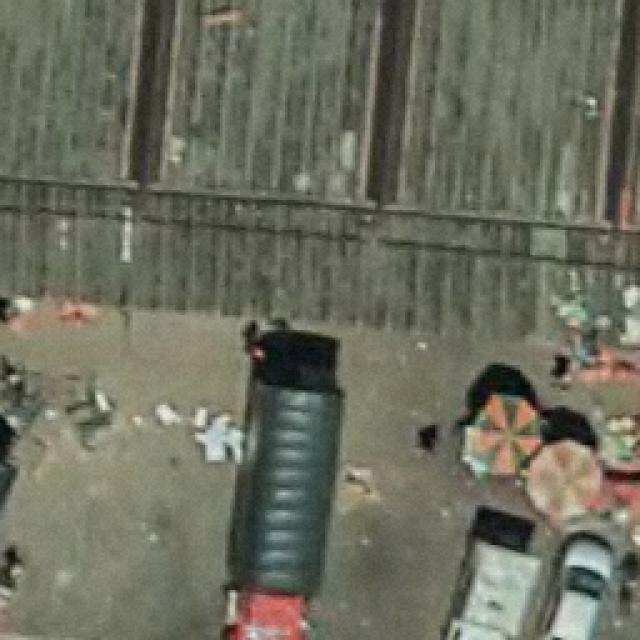vendedor_ambulante: (462, 381, 549, 484), (524, 428, 606, 522)
